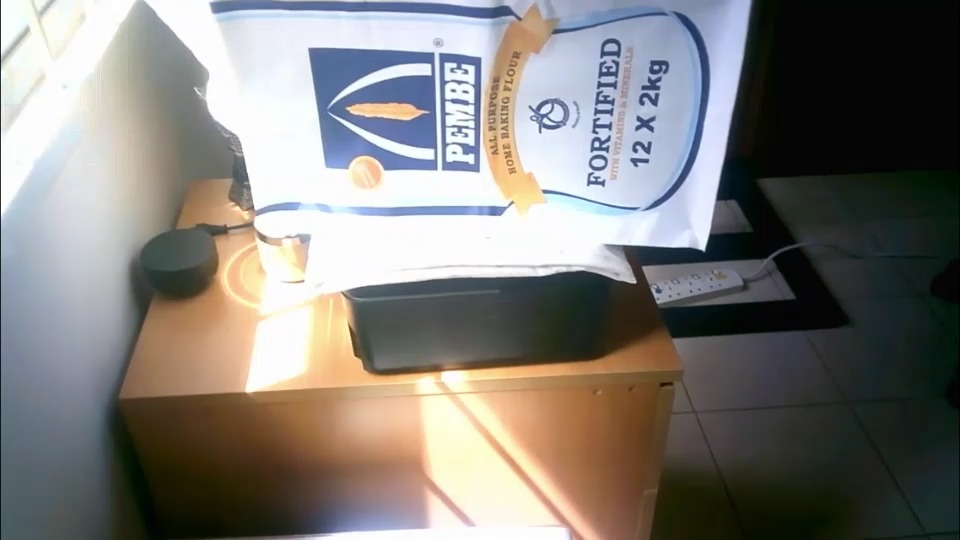wheat_flour_blue_label: (206, 0, 752, 247)
